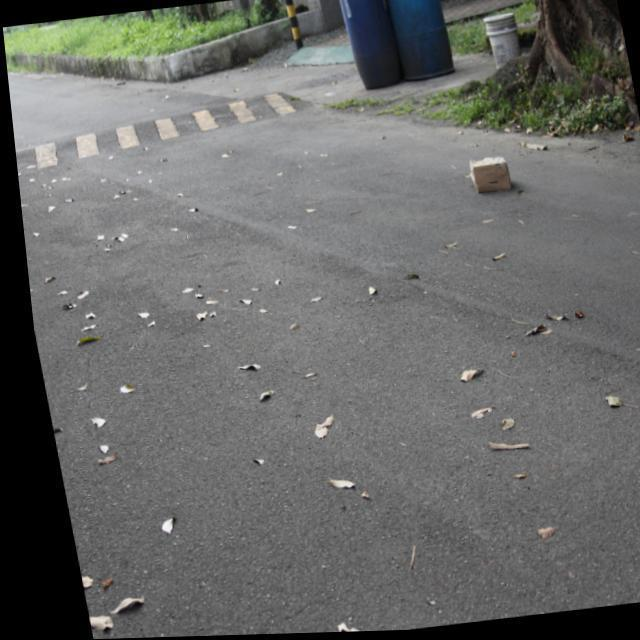Paper_Bag: (463, 158, 508, 196)
